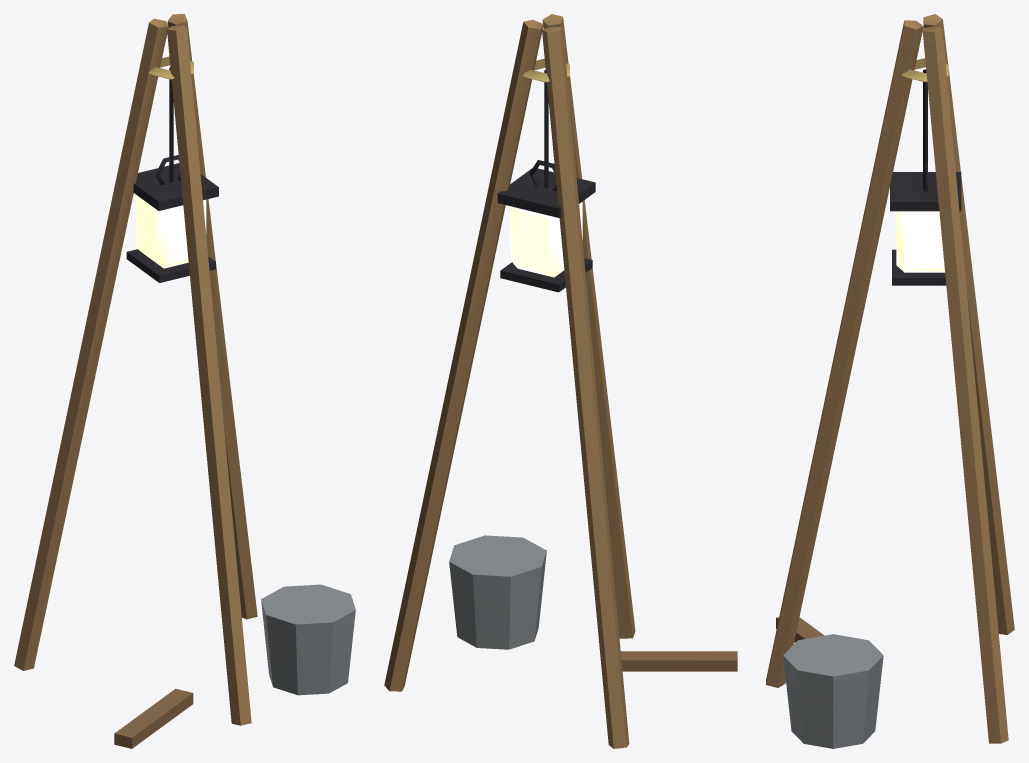
File: lantern_crew.glb
3 views of the same model, side by side, from view 1: azimuth 30°, elevation 25°; view 2: azimuth 150°, elevation 25°; view 3: azimuth 270°, elevation 25° (orthographic). The views are drawn at different scales.
Parts seen in each view (by area): view 1: lantern_crew, glow; view 2: lantern_crew, glow; view 3: lantern_crew, glow.
Boxes of the visible parts, bbox=[...] form: lantern_crew: bbox=[14, 14, 355, 748]; glow: bbox=[136, 195, 206, 268]; lantern_crew: bbox=[384, 14, 737, 748]; glow: bbox=[510, 202, 582, 277]; lantern_crew: bbox=[766, 14, 1014, 748]; glow: bbox=[896, 211, 944, 272].
Bounding box in the file's own units: 0.7224 × 1.74 × 0.5938.
